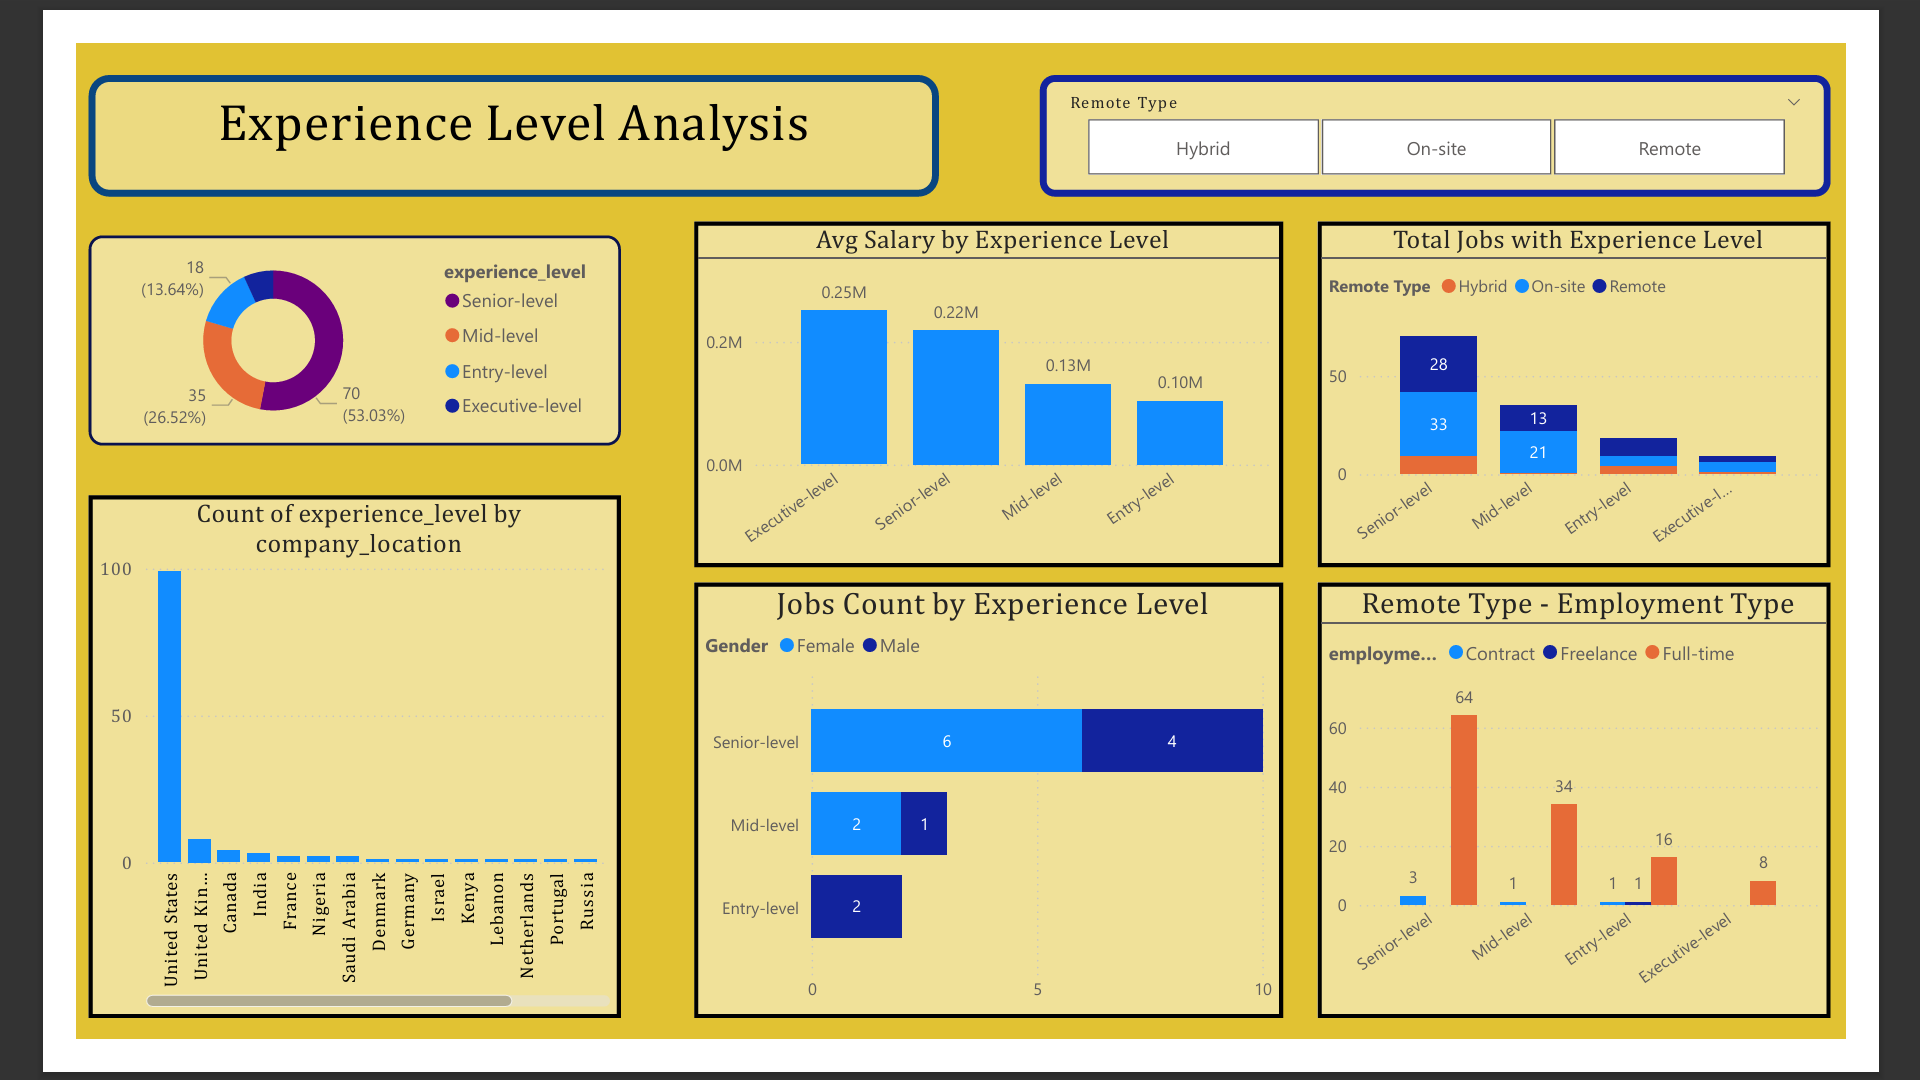

This screenshot's page, from the dashboard's own definition file:
{"tool":"powerbi","page":{"name":"Page 4","canvas":[1280,720],"ordinal":3},"visuals":[{"type":"barChart","title":"Jobs Count by Experience Level","fields":{"Category":["data_science_salaries.experience_level"],"Y":["CountNonNull(data_science_salaries.job_title)"],"Series":["data_science_salaries.Gender"]},"box":[447,389.6,426.2,315.1],"z":0},{"type":"columnChart","fields":{"Category":["data_science_salaries.company_location"],"Y":["CountNonNull(data_science_salaries.experience_level)"]},"box":[8.5,327.3,385.9,377.4],"z":1},{"type":"columnChart","title":"Avg Salary by Experience Level","fields":{"Y":["data_science_salaries.Avg Salary"],"Category":["data_science_salaries.experience_level"]},"box":[447,129.4,426.2,249.1],"z":2},{"type":"textbox","box":[8.5,23.2,615.5,87.9],"z":3},{"type":"clusteredColumnChart","title":"Remote Type - Employment Type","fields":{"Category":["data_science_salaries.experience_level"],"Y":["CountNonNull(data_science_salaries.Remote Type)"],"Series":["data_science_salaries.employment_type"]},"box":[897.6,389.6,371.2,315.1],"z":4},{"type":"slicer","title":"Gender","fields":{"Values":["data_science_salaries.Remote Type"]},"box":[697.3,23.2,571.5,87.9],"z":5},{"type":"donutChart","fields":{"Category":["data_science_salaries.experience_level"],"Y":["CountNonNull(data_science_salaries.experience_level)"]},"box":[8.5,139.2,385.9,151.4],"z":6},{"type":"columnChart","title":"Total Jobs with Experience  Level ","fields":{"Category":["data_science_salaries.experience_level"],"Y":["data_science_salaries.Total Jobs"],"Series":["data_science_salaries.Remote Type"]},"box":[897.6,129.4,371.2,249.1],"z":7}]}

Visuals, with their boxes in screenshot pixels (x1, y1, x2, y2), scaled from the page's 1280x720 canvas onto the 1920x1080 screenshot:
"Jobs Count by Experience Level" barChart: {"x1": 670, "y1": 584, "x2": 1310, "y2": 1057}
columnChart - data_science_salaries.company_location x CountNonNull(data_science_salaries.experience_level): {"x1": 13, "y1": 491, "x2": 592, "y2": 1057}
"Avg Salary by Experience Level" columnChart: {"x1": 670, "y1": 194, "x2": 1310, "y2": 568}
textbox: {"x1": 13, "y1": 35, "x2": 936, "y2": 167}
"Remote Type - Employment Type" clusteredColumnChart: {"x1": 1346, "y1": 584, "x2": 1903, "y2": 1057}
"Gender" slicer: {"x1": 1046, "y1": 35, "x2": 1903, "y2": 167}
donutChart - data_science_salaries.experience_level x CountNonNull(data_science_salaries.experience_level): {"x1": 13, "y1": 209, "x2": 592, "y2": 436}
"Total Jobs with Experience  Level " columnChart: {"x1": 1346, "y1": 194, "x2": 1903, "y2": 568}
